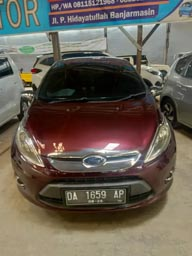plat: (65, 190, 126, 199)
